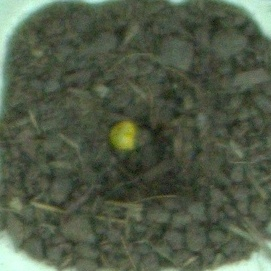chilli seed: (105, 119, 141, 151)
